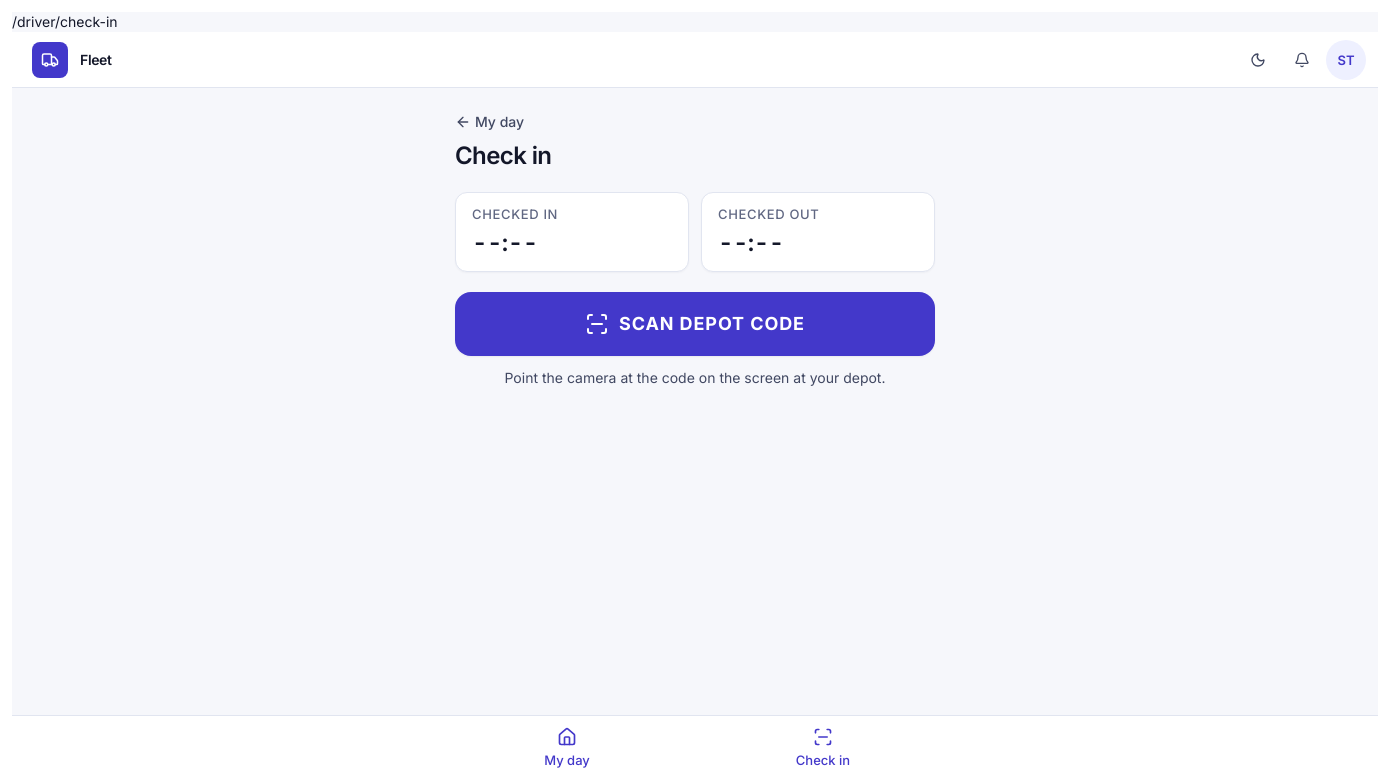
S-25 Check in (FMS-141) › a blocked camera says how to allow it, or to ask the supervisor
Step 1. Click the button "Scan depot code" → (695, 324), box x1=455 y1=292 x2=935 y2=356
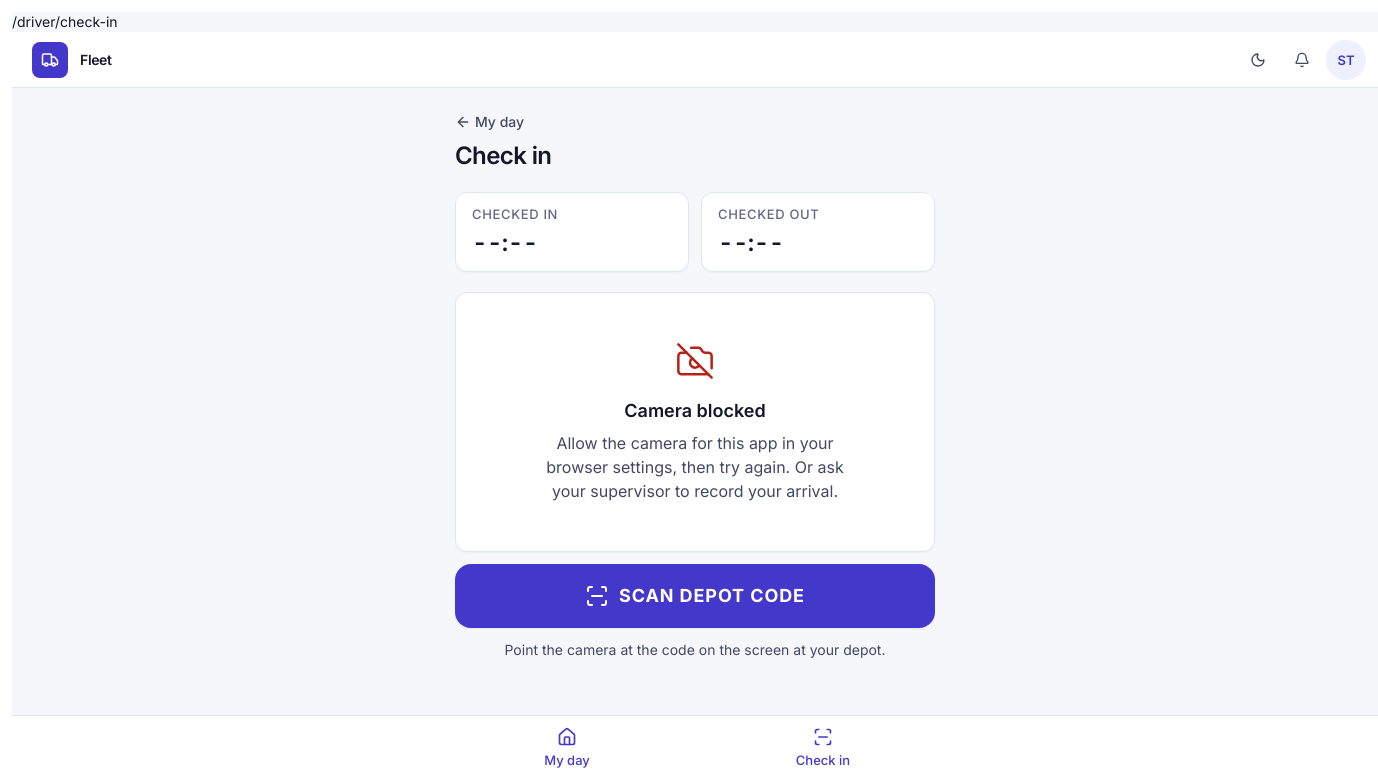
Result: the heading "Camera blocked" is shown at x1=624 y1=397 x2=766 y2=425
Result: the text "ask your supervisor to record your arrival" is shown at x1=546 y1=433 x2=844 y2=501
